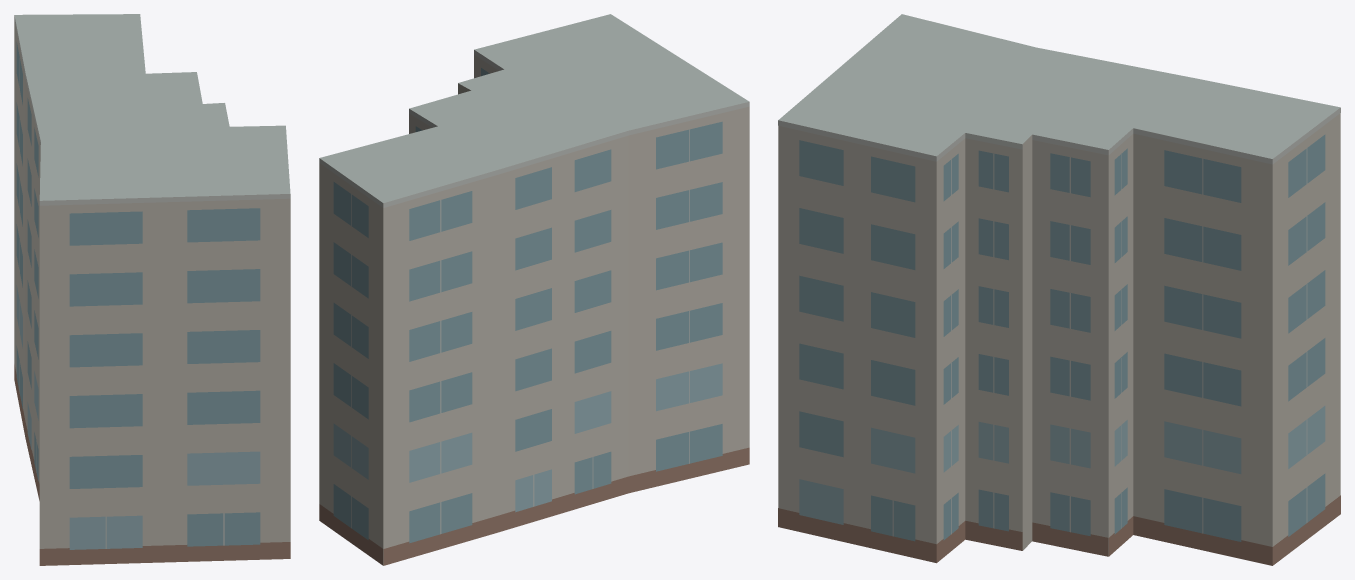
File: survey-upis-33022035.glb
3 views of the same model, side by side, from view 1: azimuth 30°, elevation 25°; view 2: azimuth 150°, elevation 25°; view 3: azimuth 270°, elevation 25° (orthographic). The views are drawn at different scales.
Visible parts, largest first — view 1: survey-upis-33022035.tmp; view 2: survey-upis-33022035.tmp; view 3: survey-upis-33022035.tmp.
Part boxes in pixels (x1,y1,x2,y2): survey-upis-33022035.tmp: [14, 14, 290, 565]; survey-upis-33022035.tmp: [319, 14, 749, 565]; survey-upis-33022035.tmp: [778, 14, 1340, 565].
Size of the model in its own units: 14.01 by 18.3 by 22.95.
